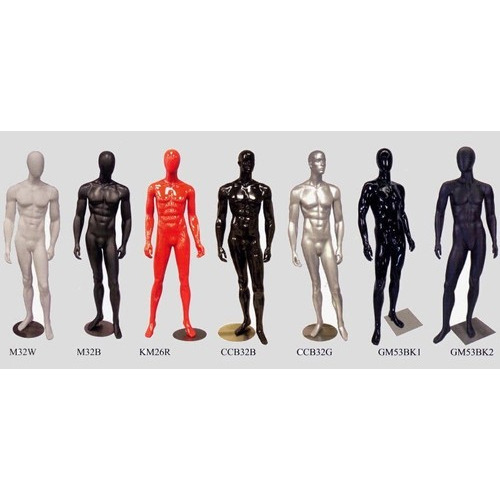person-like: (429, 141, 500, 344), (211, 145, 280, 351), (284, 146, 355, 345), (139, 145, 208, 343), (69, 147, 136, 345), (355, 144, 419, 350), (2, 146, 65, 346)
